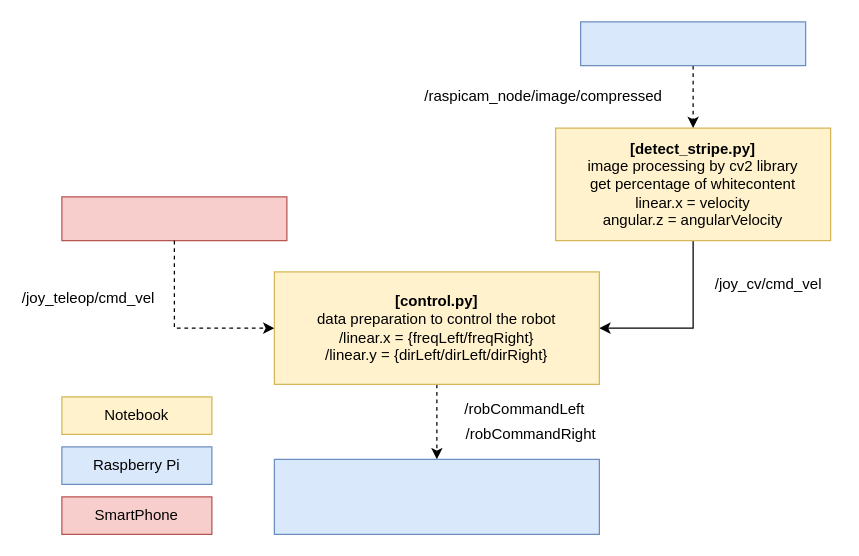
Some shapes in this 859 by 556 pixel diagram are drawn without their labels. The centre of each missing label's shape, as x and y in pixels:
"[robotControl.py] activate the left/right stepper motor by pigpio library" belongs at [436,496].
"ROS Control App" belongs at [174,218].
"ROS Package PiCamera" belongs at [692,43].
